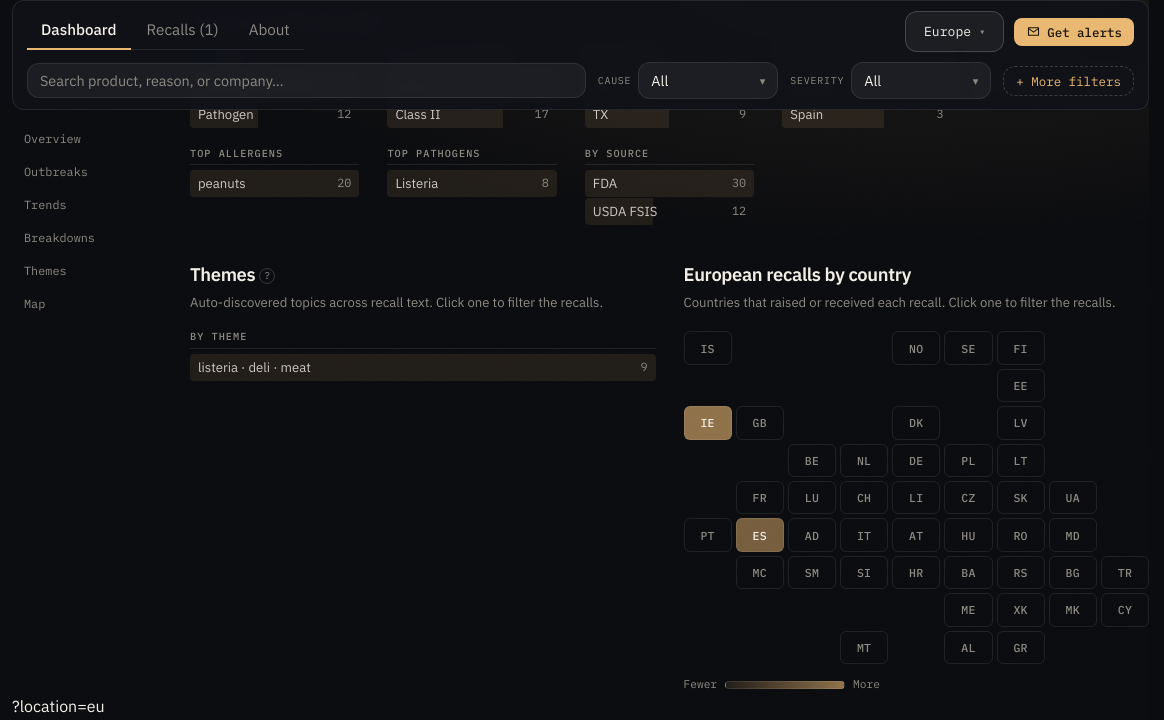
Test: RecallRadar page › renders the EU country map and writes a clicked country to the URL
The image size is (1164, 720).
(page scrolled)
Expected: the element named "European food recalls by country" is shown, left=684, top=332, right=1149, bottom=664
Click the button with aria-label "Ireland: 5 recalls": {"x": 708, "y": 423} left=684, top=406, right=732, bottom=440
(page scrolled)
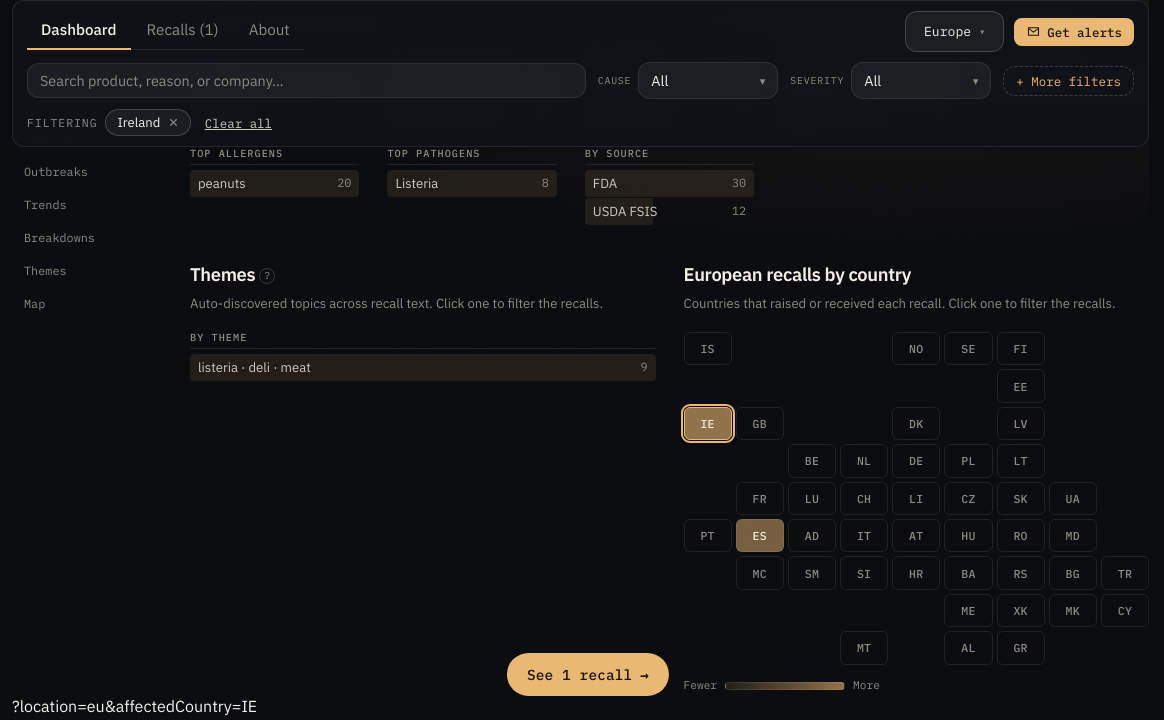
Expected: the text with test id "search" shows "affectedCountry=IE", left=12, top=696, right=257, bottom=716
Note: Clicking the active tile again clears the filter.
Click the button with aria-label "Ireland: 5 recalls": {"x": 708, "y": 424} left=684, top=407, right=732, bottom=440
(page scrolled)
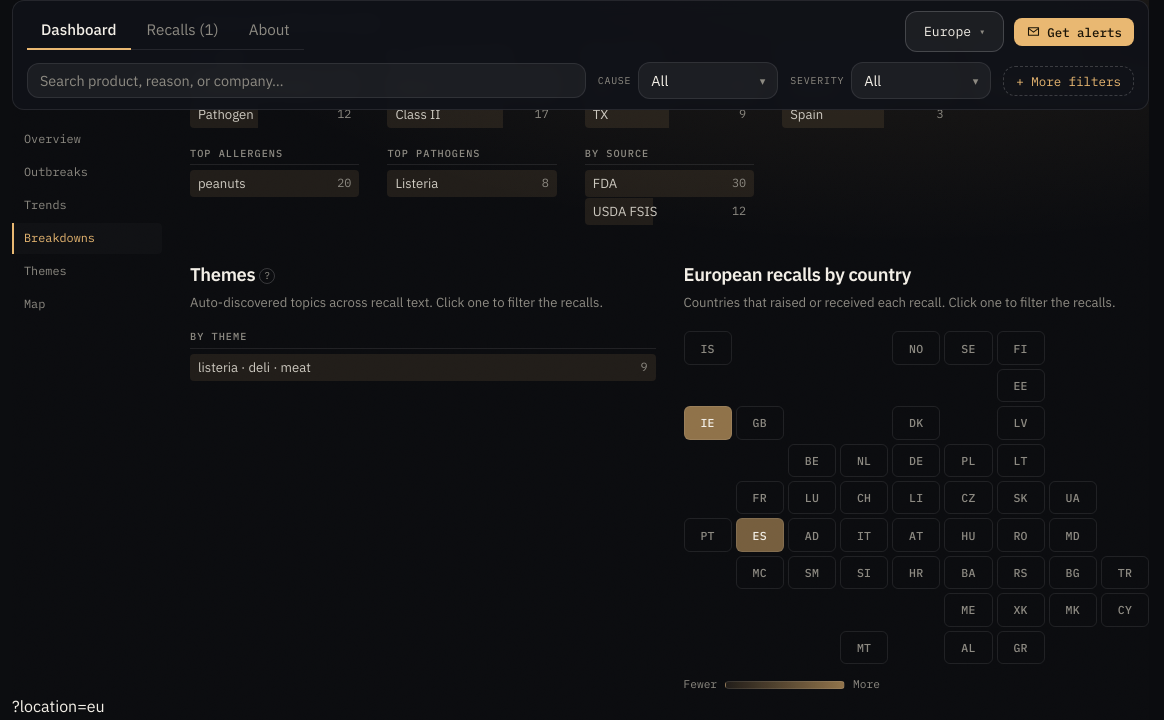
Expected: the text with test id "search" no longer shows "affectedCountry="
